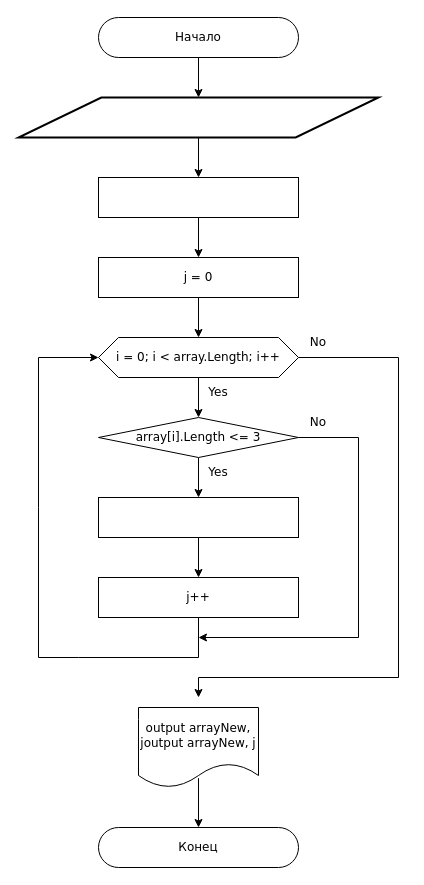
The diagram is 424 pixels wide and 885 high, and some of its shapes have lost their labels. The shapes that lost their labels are listed below. From the top down, each one's centre as x and y in pixels, then its label:
point 198,117: Ввод массива, перевод в строку для счета элементв.
point 198,197: Инициализация элеиентов массива,
point 198,517: arrayNew[j] = array[i]
